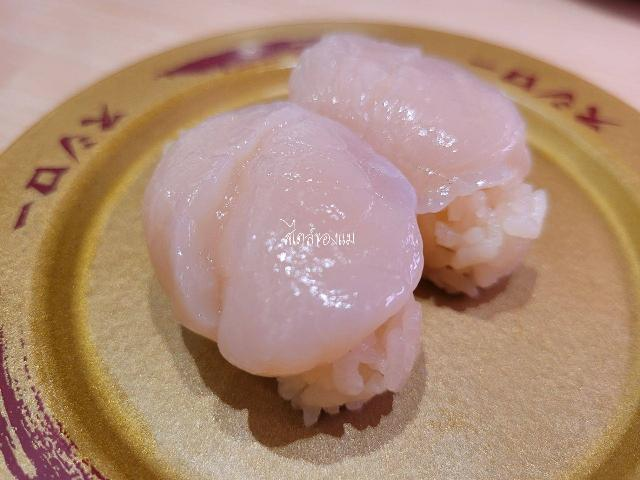jangold: (10, 66, 640, 470)
